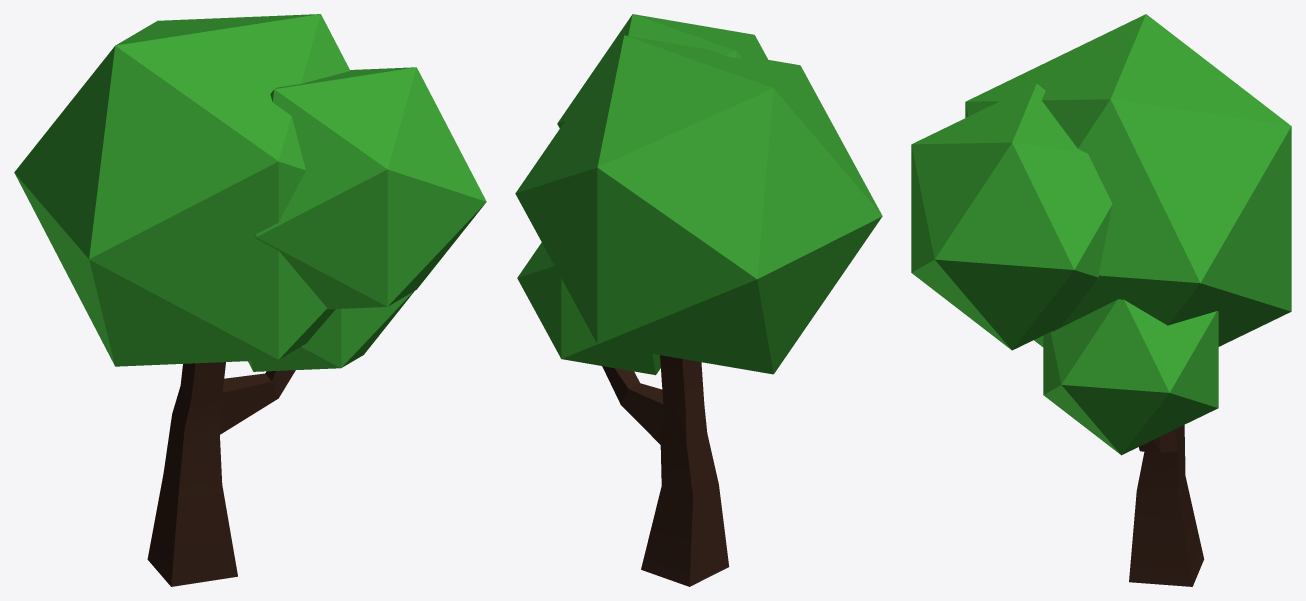
File: Tree-1.FBX
3 renders of one model, left to right at view 1: azimuth 30°, elevation 25°; view 2: azimuth 150°, elevation 25°; view 3: azimuth 270°, elevation 25°, orthographic. The views are drawn at different scales.
Parts seen in each view (by area): view 1: Tree-3; view 2: Tree-3; view 3: Tree-3.
Boxes of the visible parts, left/top/right/bottom form: Tree-3: left=14, top=14, right=486, bottom=586; Tree-3: left=515, top=14, right=882, bottom=586; Tree-3: left=911, top=14, right=1291, bottom=586.
Bounding box in the file's own units: 76.36 × 113 × 75.61.
